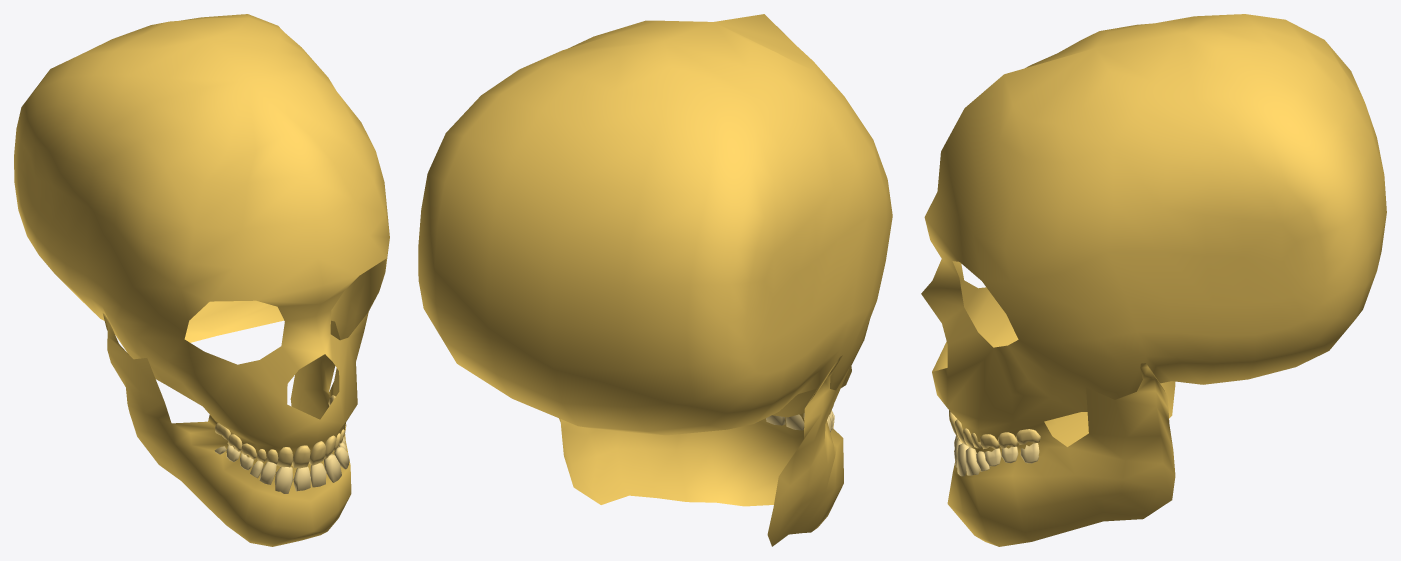
Rendered from Skull.obj.
3 renders of one model, left to right at view 1: azimuth 30°, elevation 25°; view 2: azimuth 150°, elevation 25°; view 3: azimuth 270°, elevation 25°, orthographic. The views are drawn at different scales.
Visible parts, largest first — view 1: Skull, TeethBack, Teeth_Up; view 2: Skull; view 3: Skull, TeethBack, Teeth_Up.
Part boxes in pixels (x1,y1,x2,y2): Skull: (14,14,389,546); TeethBack: (214,437,349,493); Teeth_Up: (215,395,346,468); Skull: (418,14,892,546); Skull: (921,14,1386,546); TeethBack: (954,435,1039,476); Teeth_Up: (949,410,1040,449).
Size of the model in its own units: 1.31 by 2.1 by 1.79.
